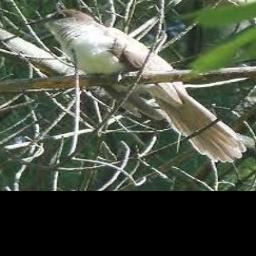Cuckoo: (24, 9, 247, 162)
